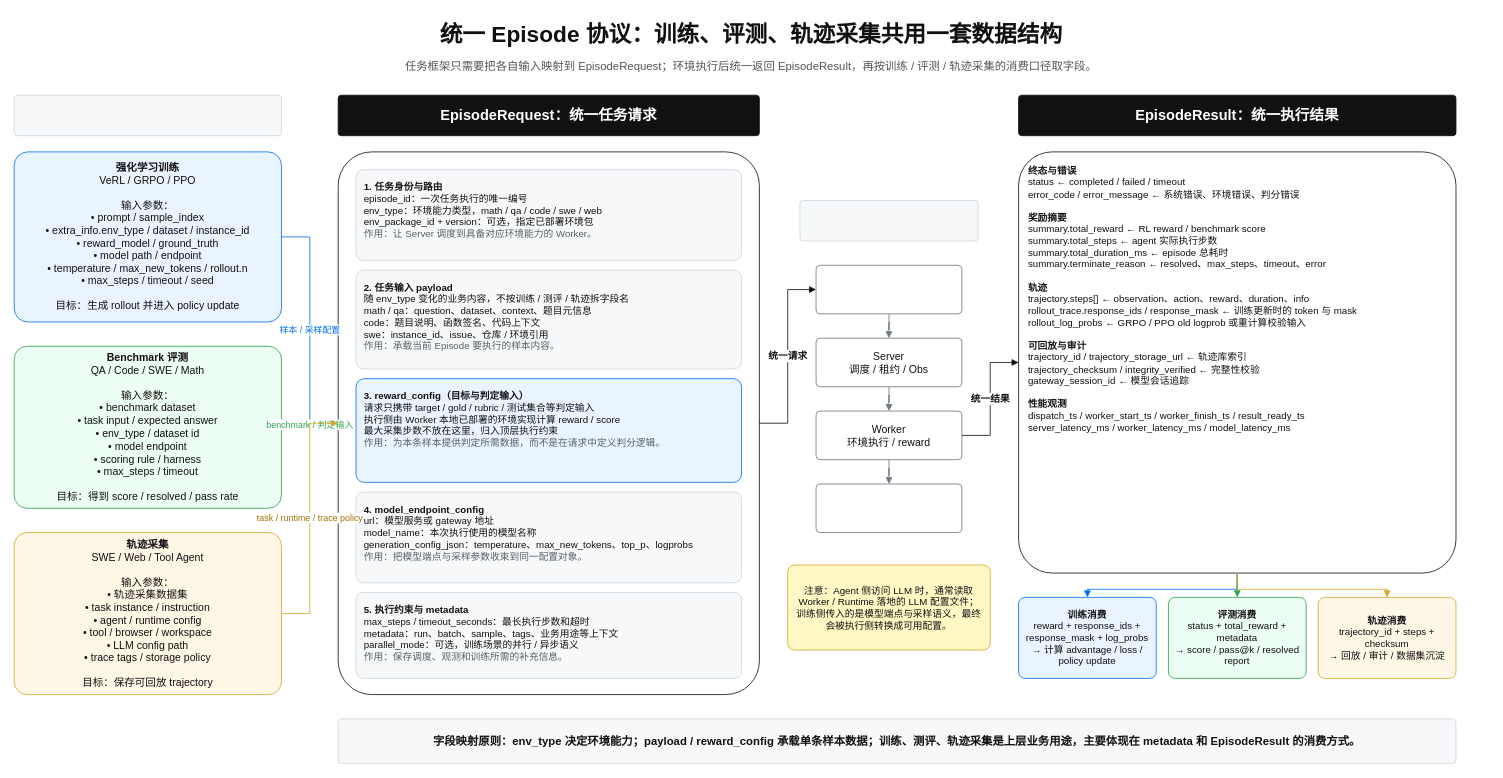
The diagram is 1503 pixels wide and 778 high, and some of its shapes have lost their labels. Here are the shapes that lost their labels. From the top down, the centre of each, then its label:
point 147,115: 任务框架输入
point 888,220: UEnv 执行链路
point 888,289: Adapter 请求转换 / 批量提交
point 888,508: Agent / Runtime OpenHands / Web / Tool
